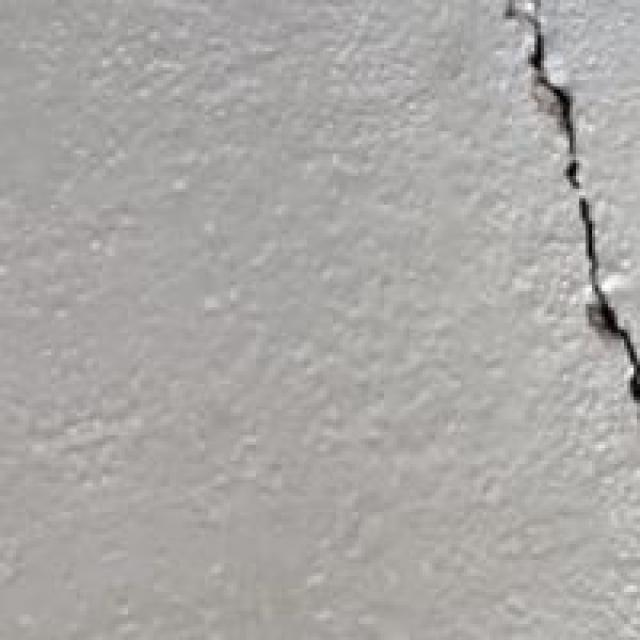crack: (489, 0, 636, 419)
